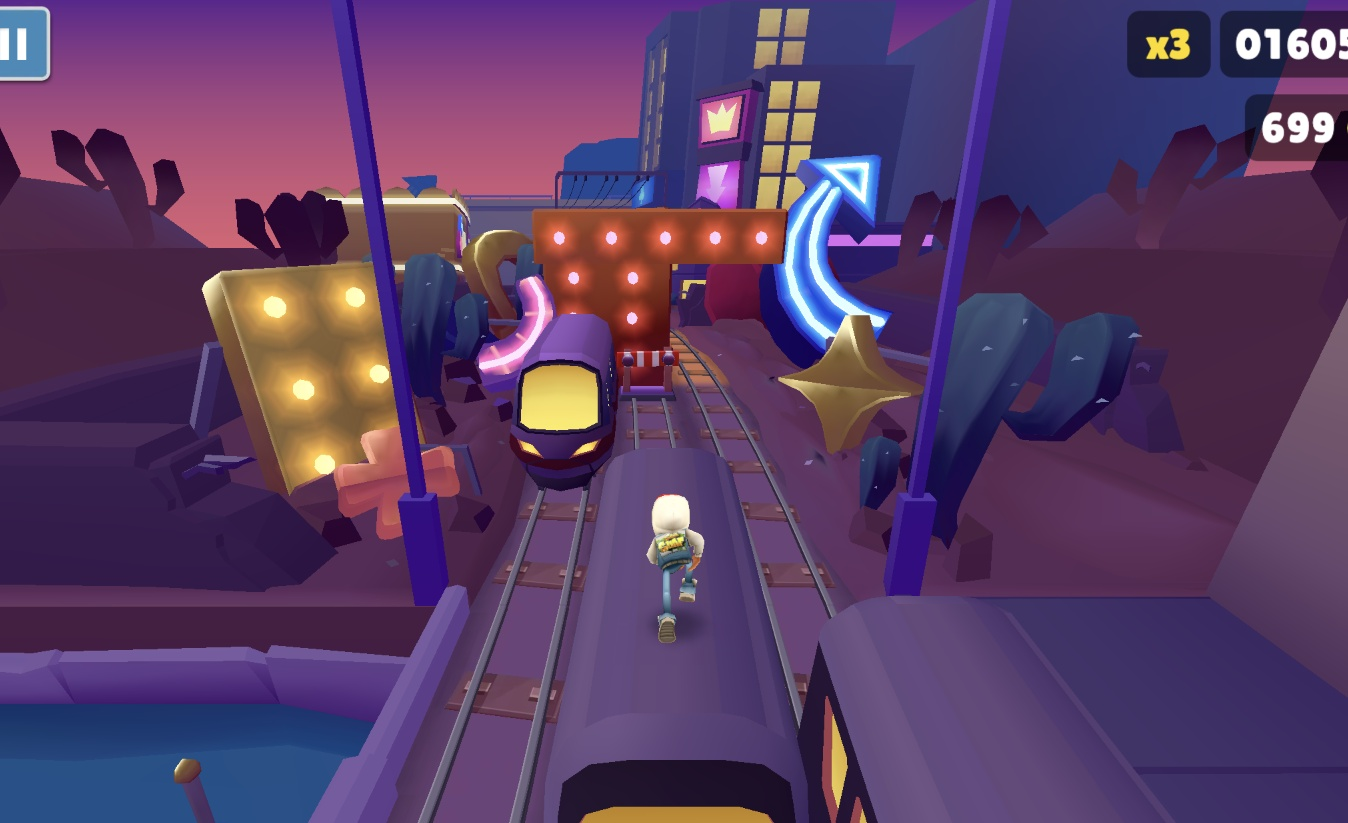ground_barrier: (613, 350, 677, 400)
pillar: (576, 263, 671, 353)
train: (795, 596, 1348, 823), (536, 450, 816, 823), (506, 313, 620, 493)
